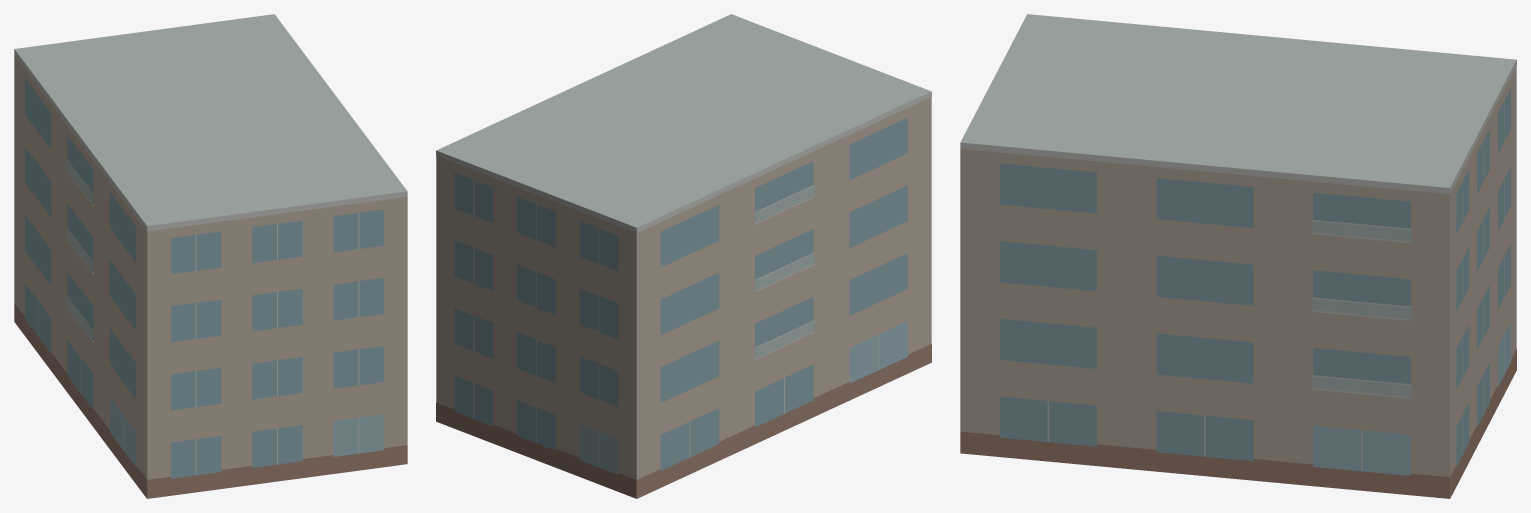
File: residential-9cffa3d7-c886-4e90-b47e-69ba223e16b0.glb
The picture shows the model from 3 angles, left to right: view 1: azimuth 30°, elevation 25°; view 2: azimuth 150°, elevation 25°; view 3: azimuth 270°, elevation 25°; orthographic projection. The views are drawn at different scales.
Visible parts, largest first — view 1: residential-9cffa3d7-c886-4e90-b47e-69ba223e16b0.tmp; view 2: residential-9cffa3d7-c886-4e90-b47e-69ba223e16b0.tmp; view 3: residential-9cffa3d7-c886-4e90-b47e-69ba223e16b0.tmp.
Boxes of the visible parts, x1,y1,x2,y2 form: residential-9cffa3d7-c886-4e90-b47e-69ba223e16b0.tmp: (14, 14, 407, 498); residential-9cffa3d7-c886-4e90-b47e-69ba223e16b0.tmp: (436, 14, 931, 498); residential-9cffa3d7-c886-4e90-b47e-69ba223e16b0.tmp: (960, 14, 1516, 498).
Size of the model in its own units: 14.66 by 12.2 by 19.8.
